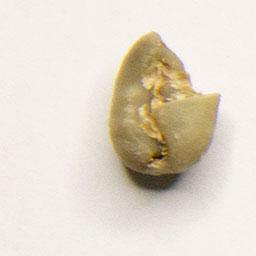defect: (107, 27, 226, 181)
